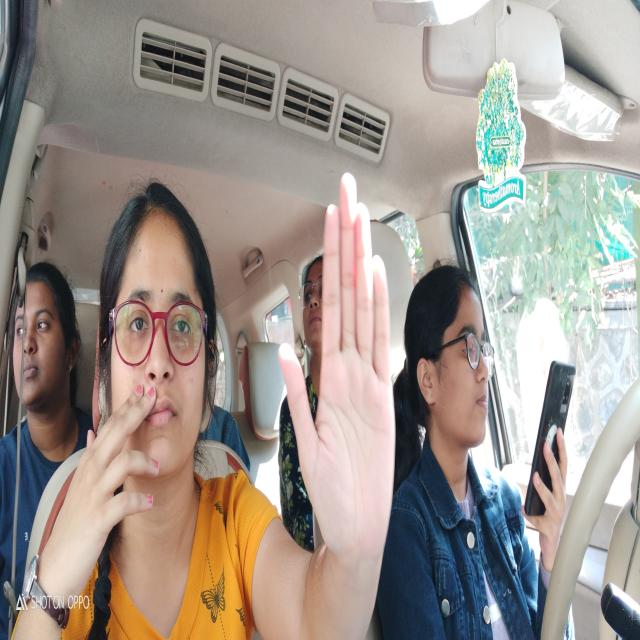mobile: (522, 356, 574, 534)
person: (100, 172, 208, 489), (403, 261, 494, 456), (15, 256, 77, 422), (300, 246, 324, 352)
